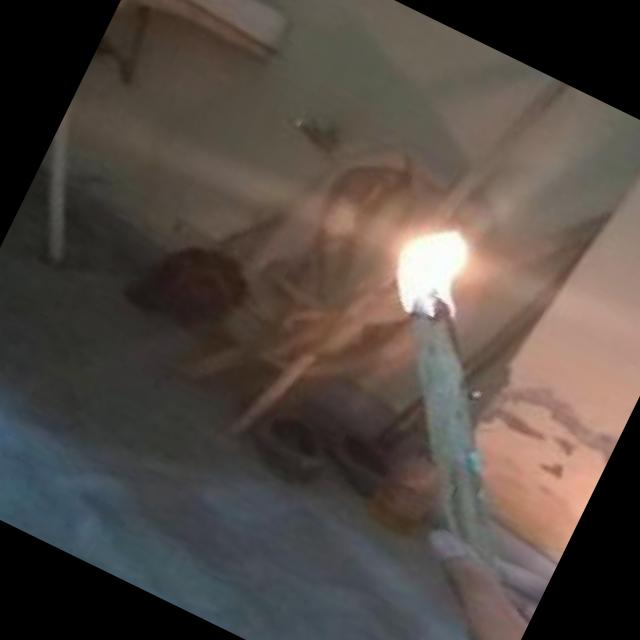fire: (357, 194, 509, 352)
